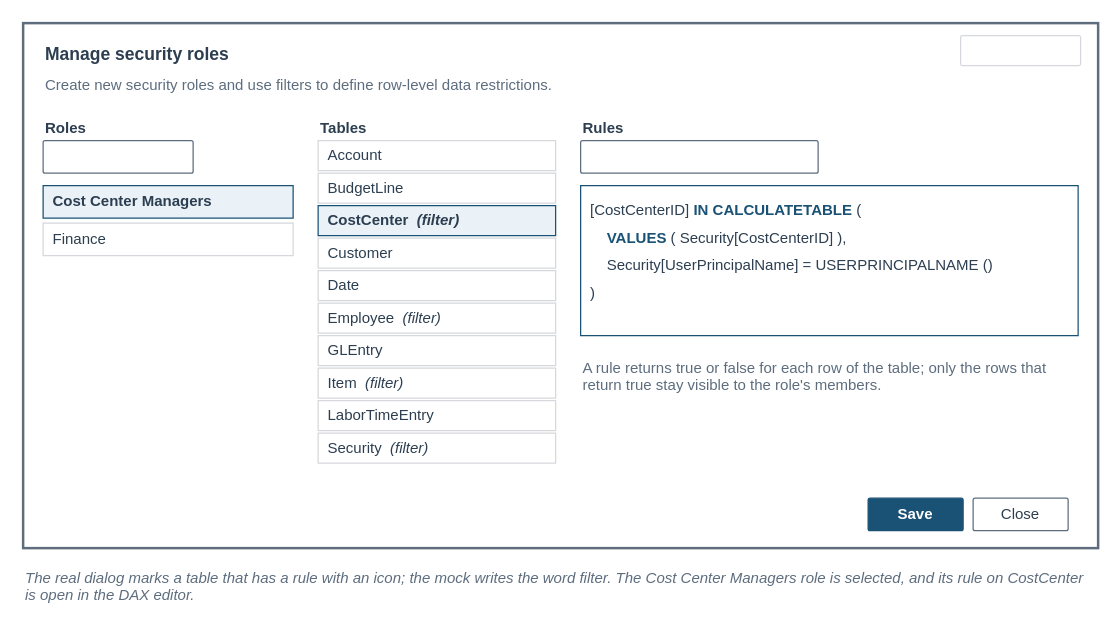
Some shapes in this 1120 by 634 pixel diagram are drawn without their labels. The centre of each missing label's shape, as x and y in pixels:
Close Dialog: point 1020,50
New role: point 117,156
Switch to default editor: point 698,156
